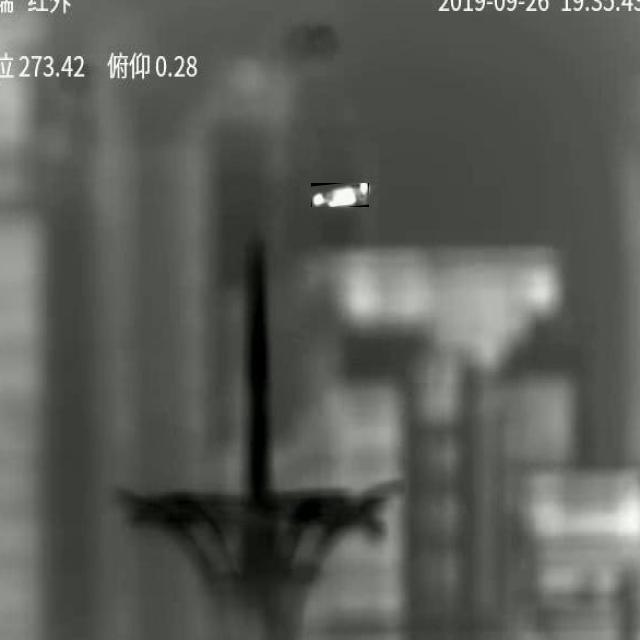drone: (313, 183, 369, 207)
